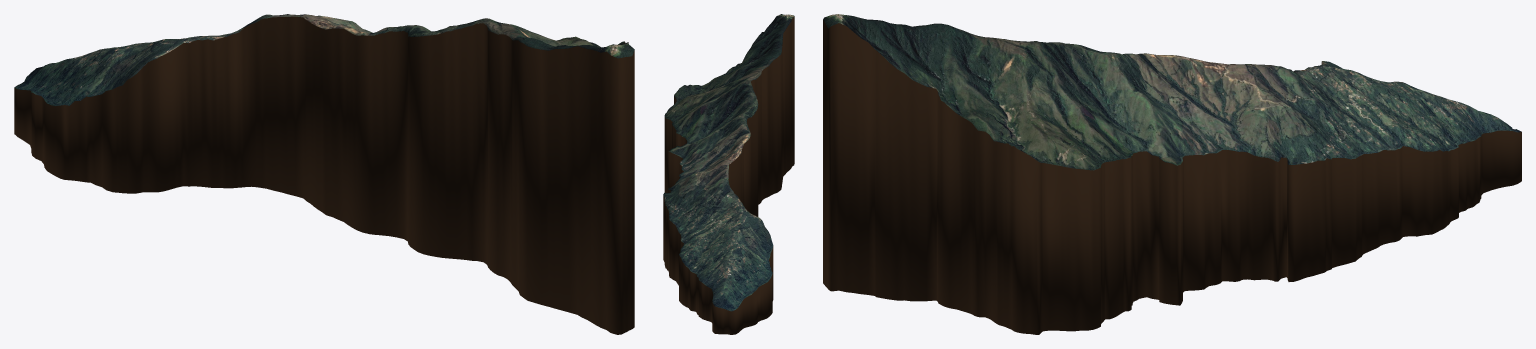
Rendered from LaFrisola.fbx.
The picture shows the model from 3 angles, left to right: view 1: azimuth 30°, elevation 25°; view 2: azimuth 150°, elevation 25°; view 3: azimuth 270°, elevation 25°; orthographic projection. The views are drawn at different scales.
Visible parts, largest first — view 1: La Frisola; view 2: La Frisola; view 3: La Frisola.
Boxes of the visible parts, box(x1,y1,x2,y2) form: La Frisola: box(14, 14, 634, 334); La Frisola: box(663, 14, 794, 334); La Frisola: box(823, 14, 1521, 334).
Bounding box in the file's own units: 430431 × 310784 × 729127.
4 materials, 3 textured.
